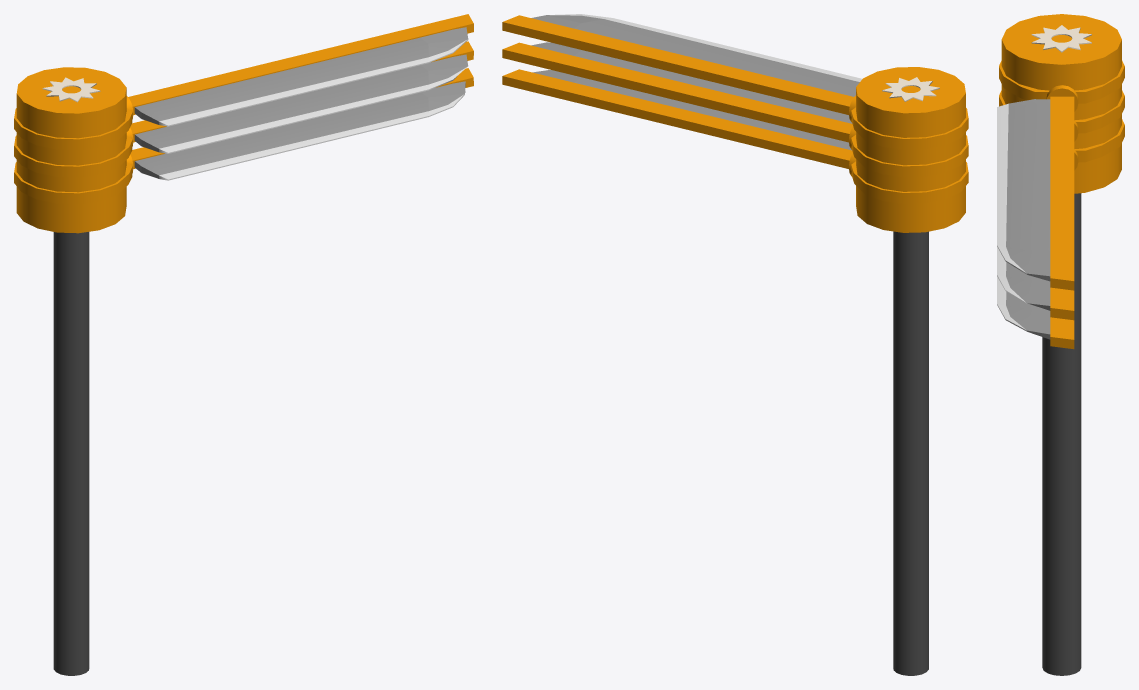
File: trap_01.fbx
The picture shows the model from 3 angles, left to right: view 1: azimuth 30°, elevation 25°; view 2: azimuth 150°, elevation 25°; view 3: azimuth 270°, elevation 25°; orthographic projection. The views are drawn at different scales.
Parts seen in each view (by area): view 1: trap_01 (×2); view 2: trap_01 (×2); view 3: trap_01 (×2).
Part boxes in pixels (left/top/right/bottom): trap_01 (×2): left=14, top=14, right=473, bottom=675; trap_01 (×2): left=502, top=14, right=968, bottom=675; trap_01 (×2): left=997, top=14, right=1124, bottom=675.
Size of the model in its own units: 2104 by 2572 by 473.
Materials: 1 (1 with a texture image).
